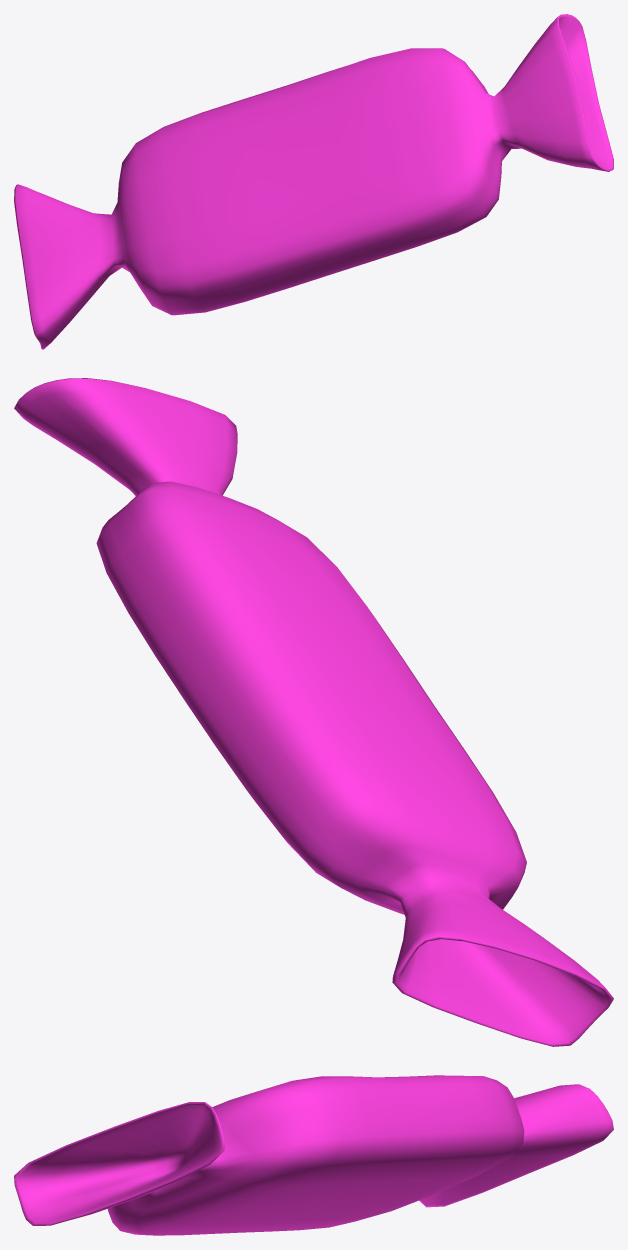
File: dulce01.fbx
3 renders of one model, top to bottom at view 1: azimuth 30°, elevation 25°; view 2: azimuth 150°, elevation 25°; view 3: azimuth 270°, elevation 25°, orthographic. The views are drawn at different scales.
Visible parts, largest first — view 1: Cube.001; view 2: Cube.001; view 3: Cube.001.
Part boxes in pixels (x1,y1,x2,y2): Cube.001: [14, 14, 613, 349]; Cube.001: [14, 378, 613, 1046]; Cube.001: [14, 1075, 613, 1235].
Size of the model in its own units: 313 by 181 by 262.
